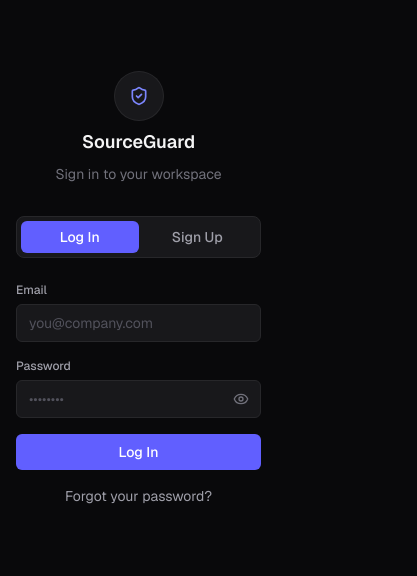
Test: LoginPage › holds the resend button closed on a cooldown after a send
Type "alex@example.com" into the field labelled "Email" at x=138, y=323, box top-left (16, 304), bottom-right (261, 342)
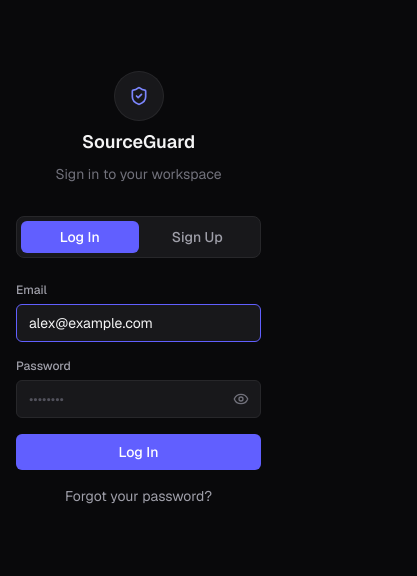
Type "hunter2hunter2" into the password field labelled "Password" at x=138, y=399, box top-left (16, 380), bottom-right (261, 418)
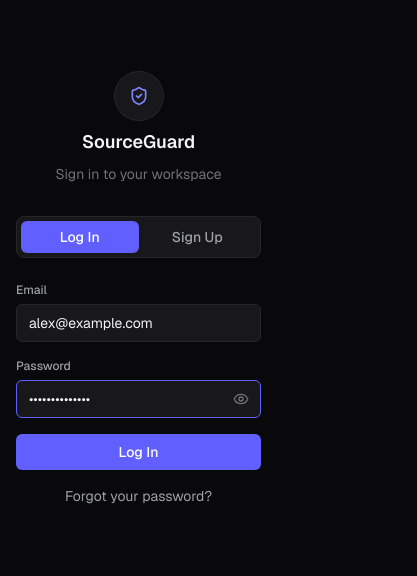
Click the button "Log In" below "Email" at x=138, y=452, box top-left (16, 434), bottom-right (261, 470)
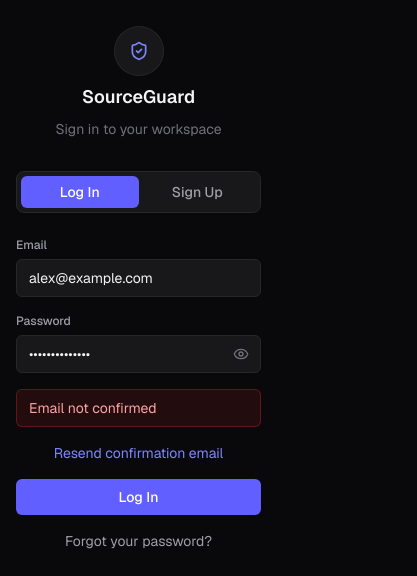
Click the button "Resend confirmation email" at x=138, y=453, box top-left (16, 443), bottom-right (261, 463)
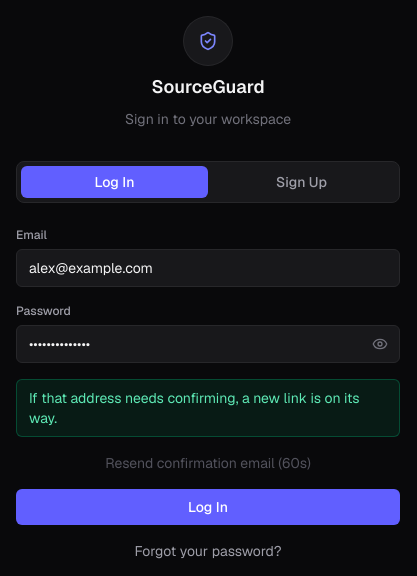
Check: the button "Resend confirmation email (60s)" is disabled, box top-left (16, 453), bottom-right (400, 473)
